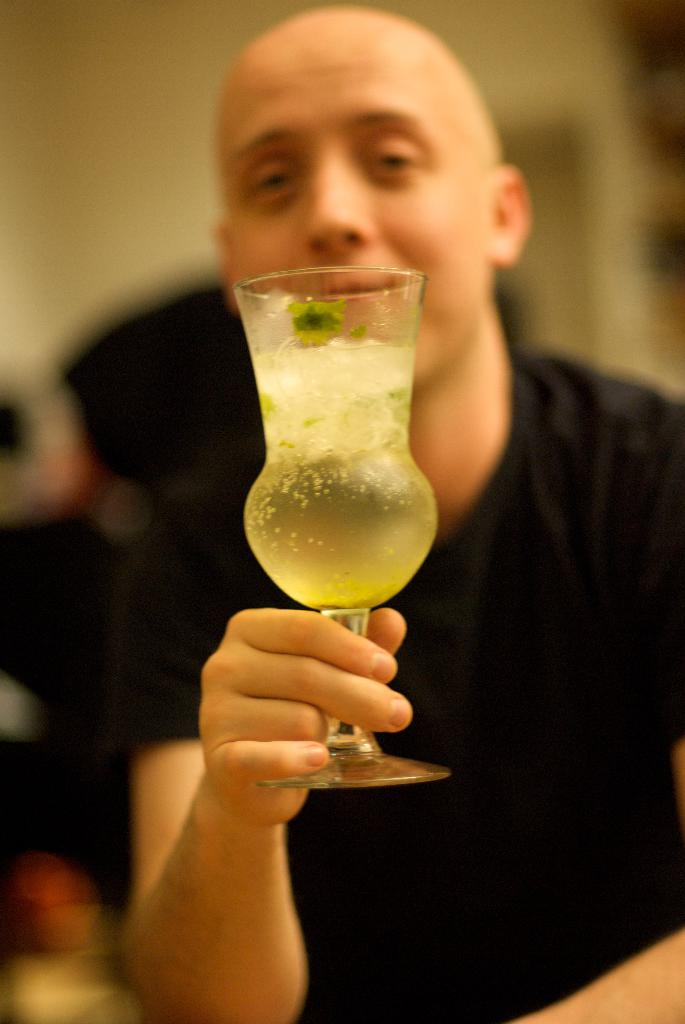Beer: (236, 235, 454, 803)
